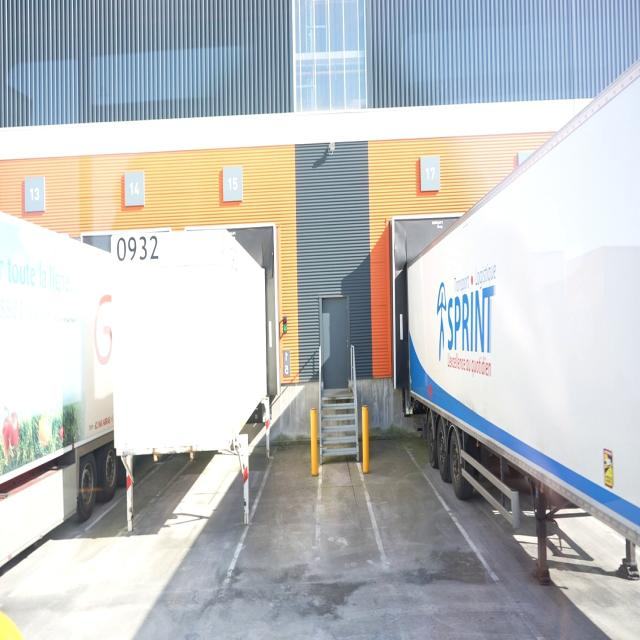Code: (115, 228, 161, 266)
